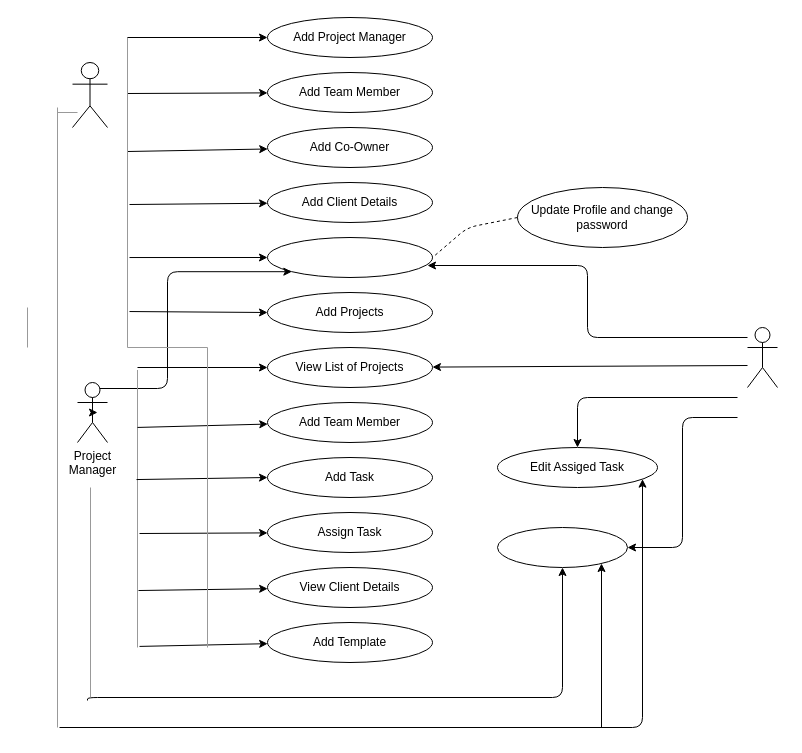
Image size: 802x753. Some labels were removed from this diagram. The shapes that lost their labels are listed below. From the top down, each one's box as (x1, y1, x2, y2) in pixels, then its label:
(72, 62, 108, 128): Admin
(266, 236, 432, 278): Login
(746, 326, 778, 388): Team Member
(496, 526, 628, 568): Edit Timesheet
